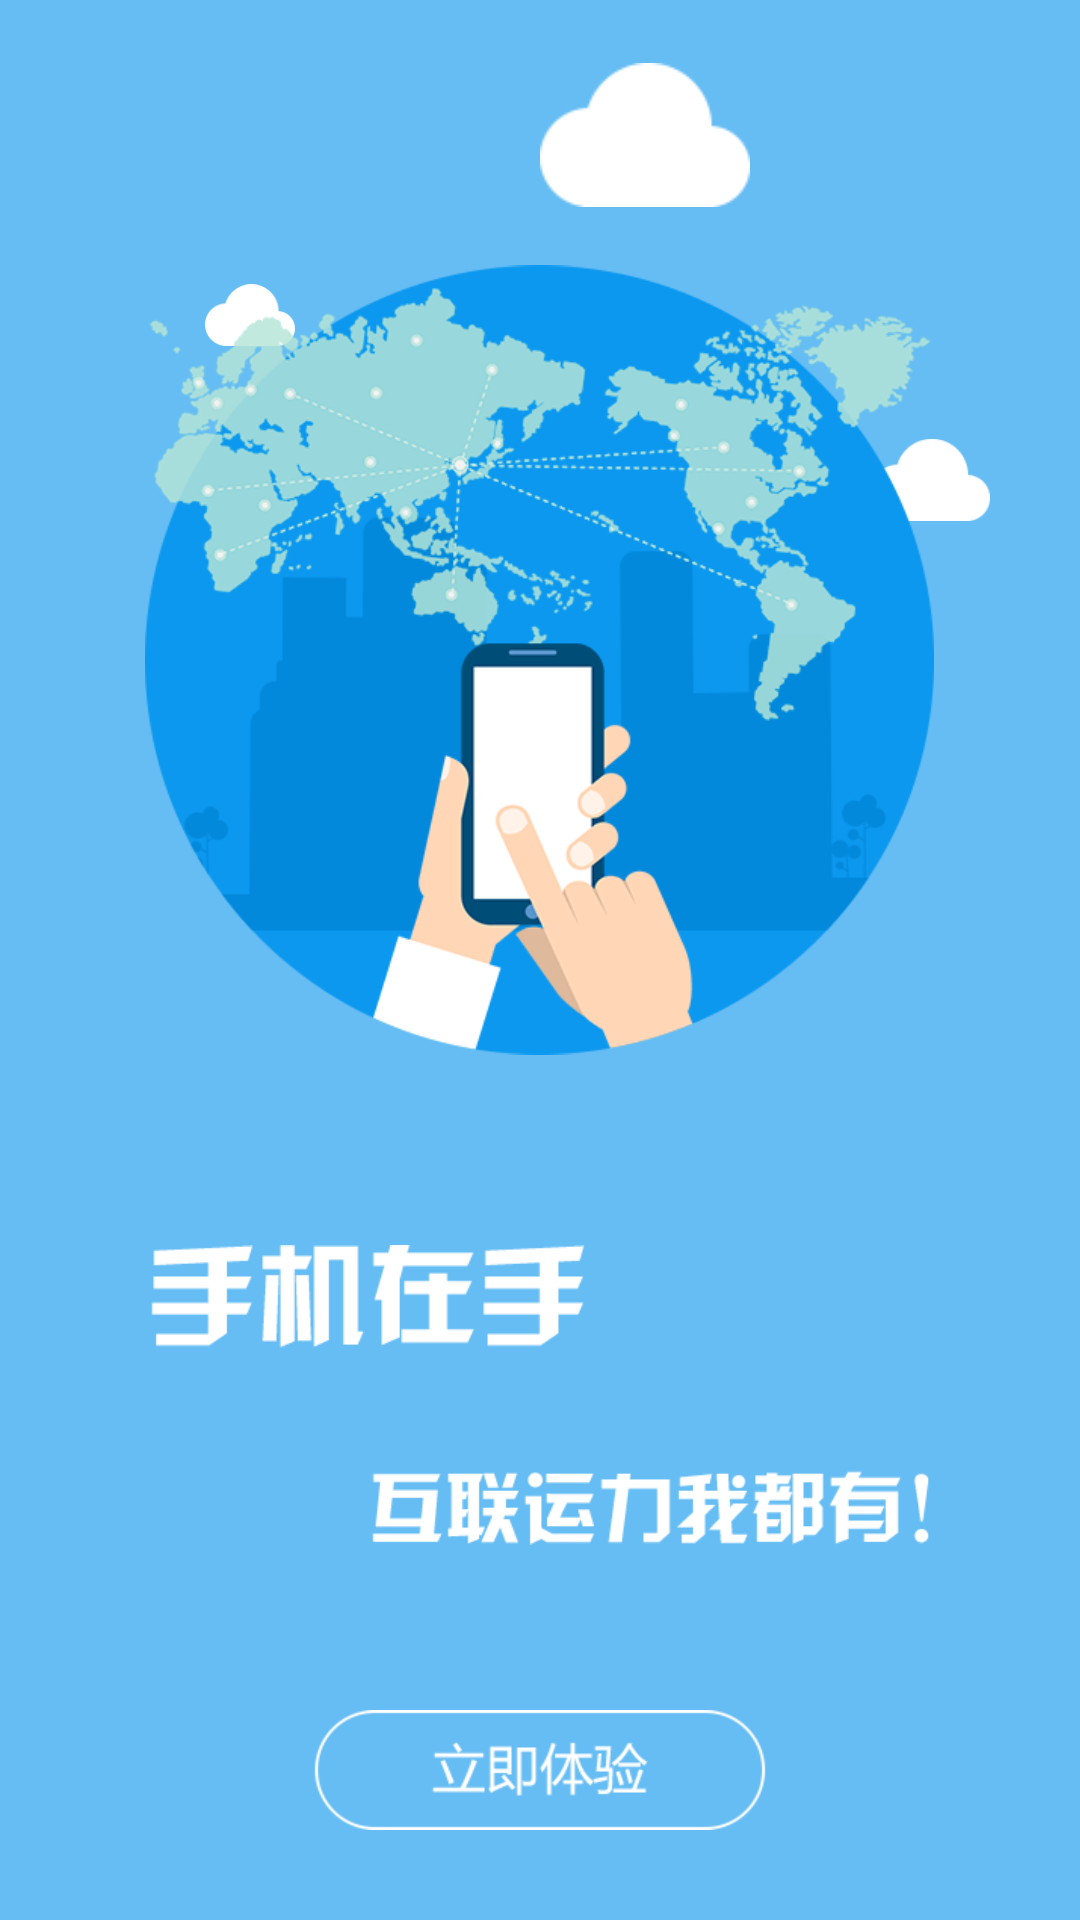

Where icons sit on this 1080px x 1920px app screen, as {"x1": x1, "y1": y1, "x2": x2, "y2": y2}:
cloud: {"x1": 540, "y1": 63, "x2": 750, "y2": 207}, {"x1": 205, "y1": 284, "x2": 295, "y2": 360}, {"x1": 870, "y1": 439, "x2": 990, "y2": 540}
